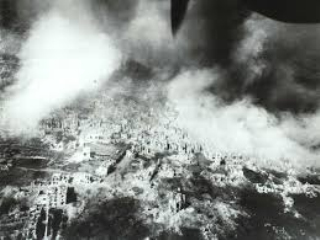smoke: (158, 59, 319, 187), (1, 15, 129, 141)
